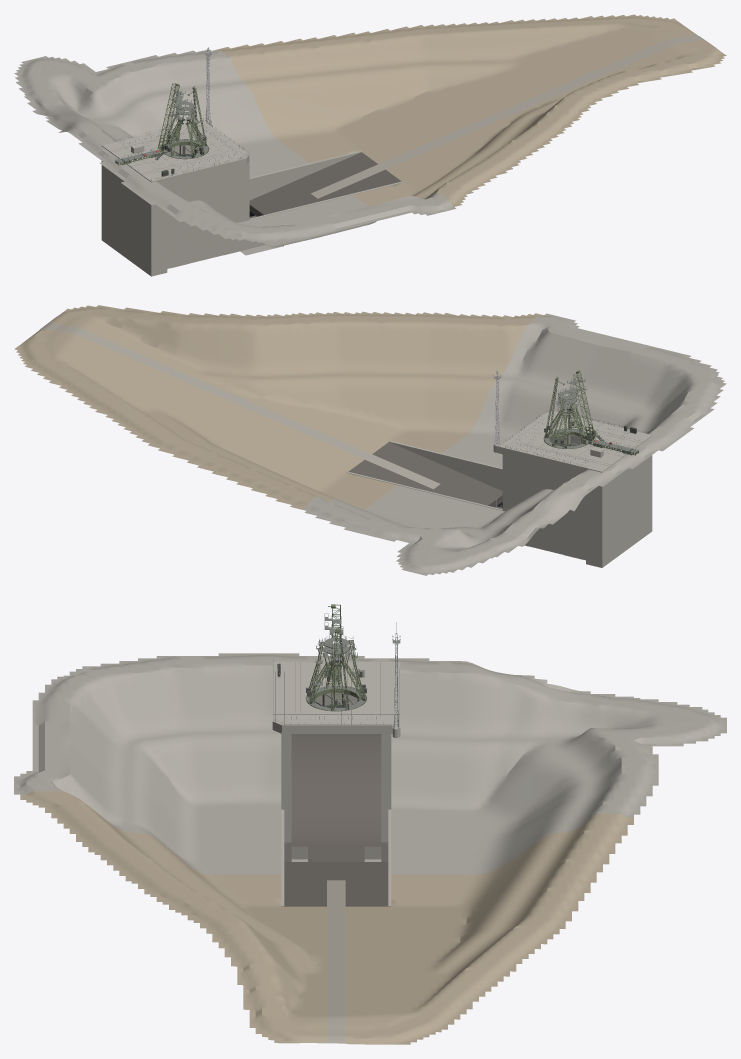
Rendered from pad.glb.
3 views of the same model, one above another, from view 1: azimuth 30°, elevation 25°; view 2: azimuth 150°, elevation 25°; view 3: azimuth 270°, elevation 25° (orthographic). The views are drawn at different scales.
Parts seen in each view (by area): view 1: FlamePit_Earth, FlamePit_Lining, Platform_ConcretePylons, Platform_Concrete, FlamePit_Road, FlamePit_Scorch, FlamePit_ScorchSump, Erector_Boom_Green; view 2: FlamePit_Earth, FlamePit_Lining, Platform_ConcretePylons, Platform_Concrete, FlamePit_Road, FlamePit_Scorch, FlamePit_ScorchSump, Erector_Boom_Green; view 3: FlamePit_Lining, FlamePit_Earth, FlameDeflector_Scorch, Platform_Concrete, Platform_ConcretePylons, FlamePit_Scorch, FlamePit_Road, FlamePit_ScorchSump.
Part boxes in pixels (left/top/right/bottom): FlamePit_Earth: left=216, top=14, right=726, bottom=206; FlamePit_Lining: left=14, top=49, right=456, bottom=247; Platform_ConcretePylons: left=101, top=141, right=403, bottom=276; Platform_Concrete: left=118, top=119, right=249, bottom=184; FlamePit_Road: left=311, top=35, right=705, bottom=198; FlamePit_Scorch: left=249, top=152, right=401, bottom=218; FlamePit_ScorchSump: left=249, top=181, right=320, bottom=216; Erector_Boom_Green: left=157, top=83, right=182, bottom=150; FlamePit_Earth: left=14, top=305, right=543, bottom=509; FlamePit_Lining: left=303, top=313, right=726, bottom=575; Platform_ConcretePylons: left=346, top=431, right=652, bottom=567; Platform_Concrete: left=493, top=411, right=632, bottom=473; FlamePit_Road: left=40, top=322, right=440, bottom=489; FlamePit_Scorch: left=348, top=442, right=502, bottom=509; FlamePit_ScorchSump: left=430, top=471, right=502, bottom=507; Erector_Boom_Green: left=571, top=370, right=595, bottom=440; FlamePit_Lining: left=14, top=653, right=726, bottom=874; FlamePit_Earth: left=20, top=791, right=633, bottom=1044; FlameDeflector_Scorch: left=284, top=734, right=388, bottom=846; Platform_Concrete: left=272, top=671, right=400, bottom=737; Platform_ConcretePylons: left=272, top=661, right=400, bottom=906; FlamePit_Scorch: left=284, top=846, right=388, bottom=906; FlamePit_Road: left=327, top=880, right=345, bottom=1043; FlamePit_ScorchSump: left=284, top=862, right=388, bottom=880.
Bounding box in the file's own units: 286 × 85.22 × 230.
